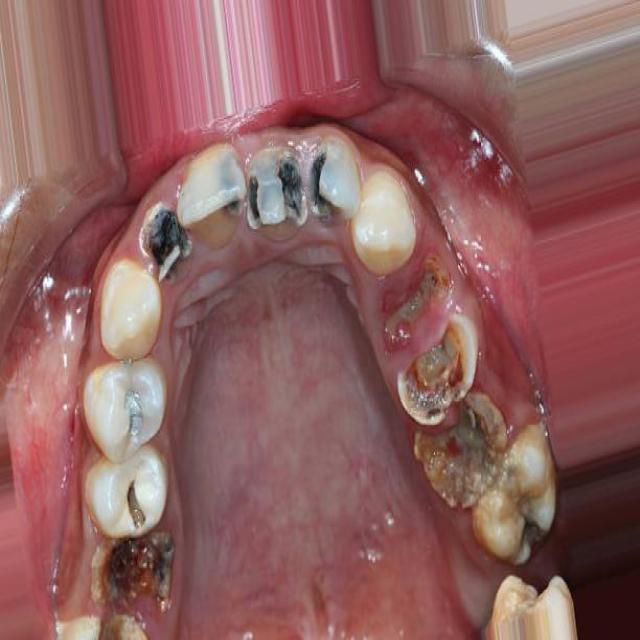caries: (480, 433, 552, 569), (414, 393, 491, 504), (81, 526, 179, 613), (398, 321, 466, 418), (243, 145, 306, 241), (140, 200, 197, 291), (306, 142, 362, 234), (378, 272, 439, 343), (98, 371, 152, 447), (105, 467, 156, 538), (206, 153, 244, 236)
